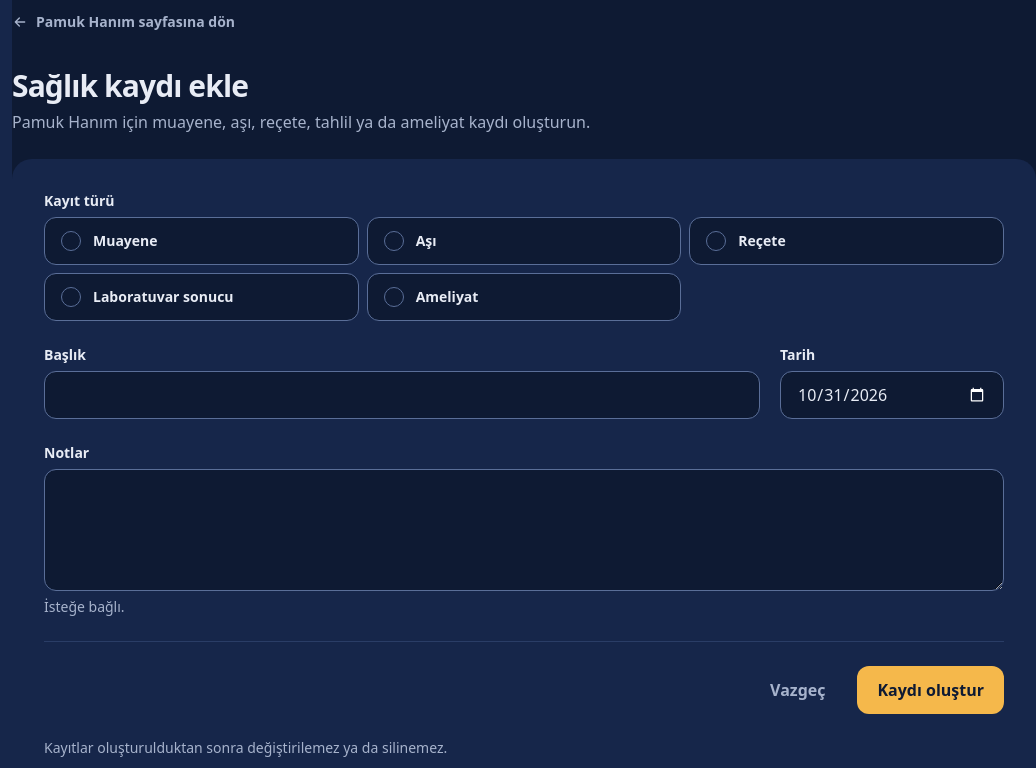
Scenario: RecordCreatePage › eksik alanları gösterir ve istek göndermez
Click the button "Kaydı oluştur" at (931, 690), box [858,666,1004,714]
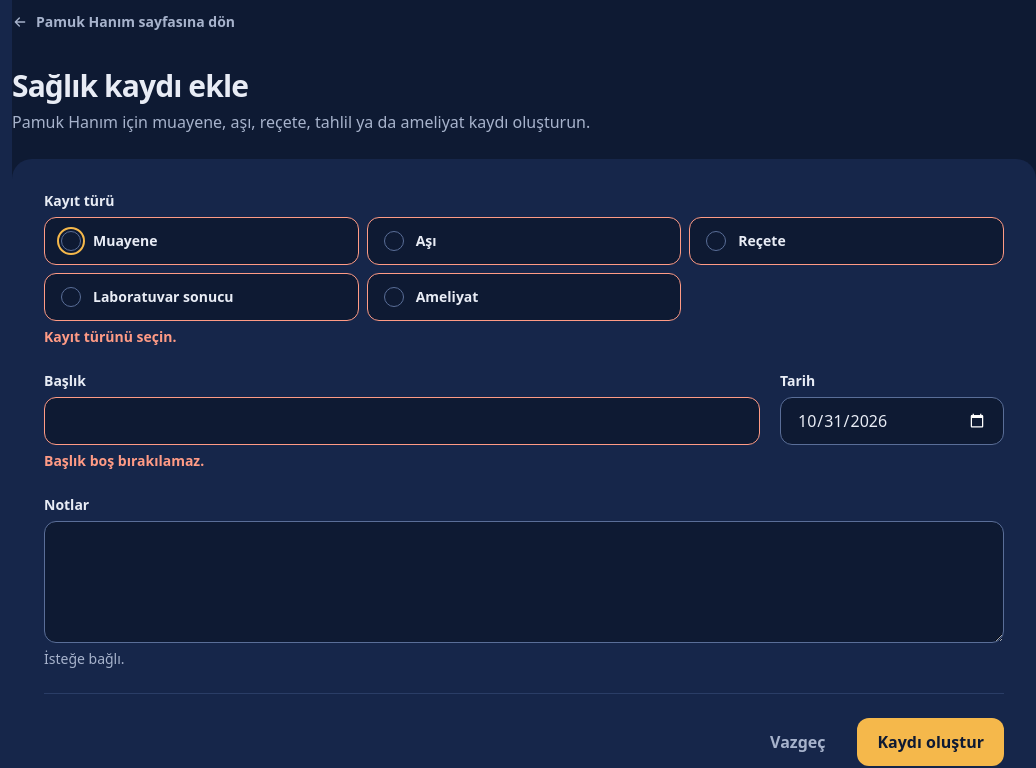
Now the text "Kayıt türünü seçin." is shown, box [44,327,176,346]
Now the text "Başlık boş bırakılamaz." is shown, box [44,451,204,470]
